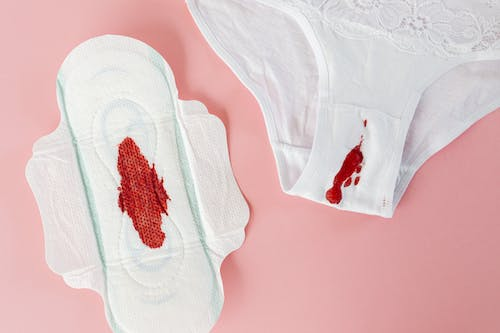blood: (114, 134, 172, 251), (324, 117, 370, 206)
